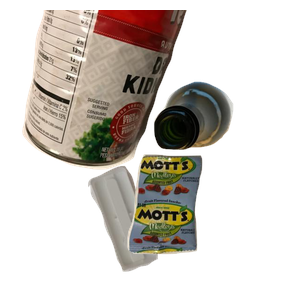glass: (151, 79, 300, 221)
metal: (20, 10, 199, 172)
plastic: (85, 163, 235, 300)
trash: (125, 152, 300, 300)
